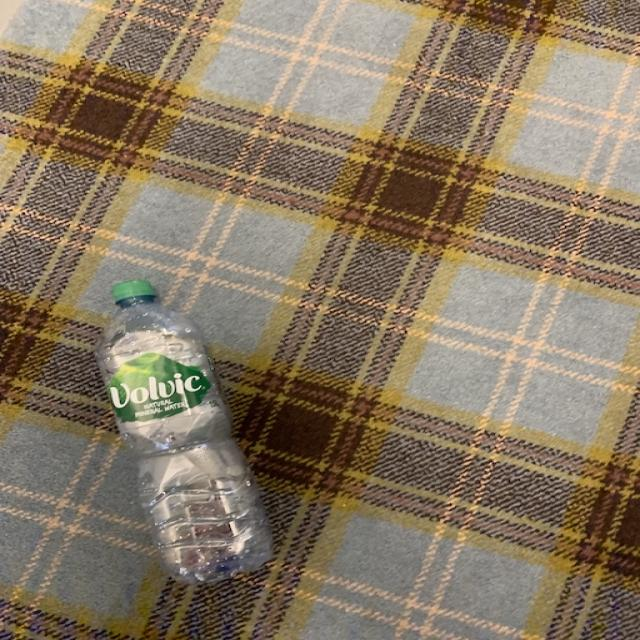litter: (94, 280, 275, 588)
